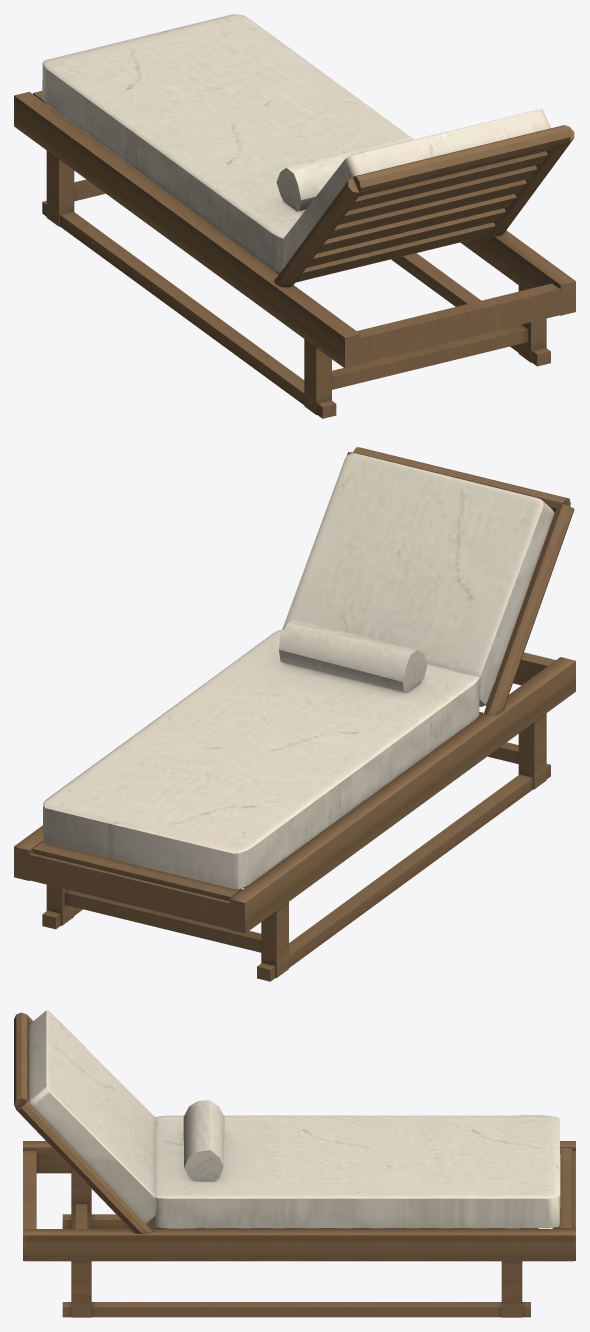
The model's file is sun_lounger.glb.
3 renders of one model, top to bottom at view 1: azimuth 30°, elevation 25°; view 2: azimuth 150°, elevation 25°; view 3: azimuth 270°, elevation 25°, orthographic. The views are drawn at different scales.
Visible parts, largest first — view 1: sun_lounger; view 2: sun_lounger; view 3: sun_lounger.
Boxes of the visible parts, x1,y1,x2,y2 form: sun_lounger: [14, 14, 575, 418]; sun_lounger: [14, 447, 575, 981]; sun_lounger: [14, 1010, 575, 1317].
Bounding box in the file's own units: 0.8191 × 0.9007 × 2.06.
1 material, 1 textured.
